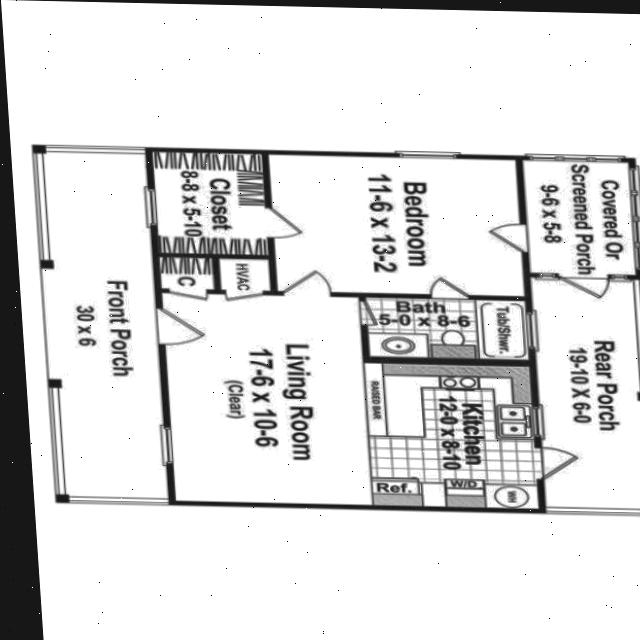room: (162, 281, 371, 517), (266, 155, 526, 296), (363, 363, 541, 509), (531, 277, 640, 507), (523, 154, 634, 282), (151, 152, 270, 256), (364, 298, 530, 360), (159, 258, 213, 290), (217, 259, 269, 291)
